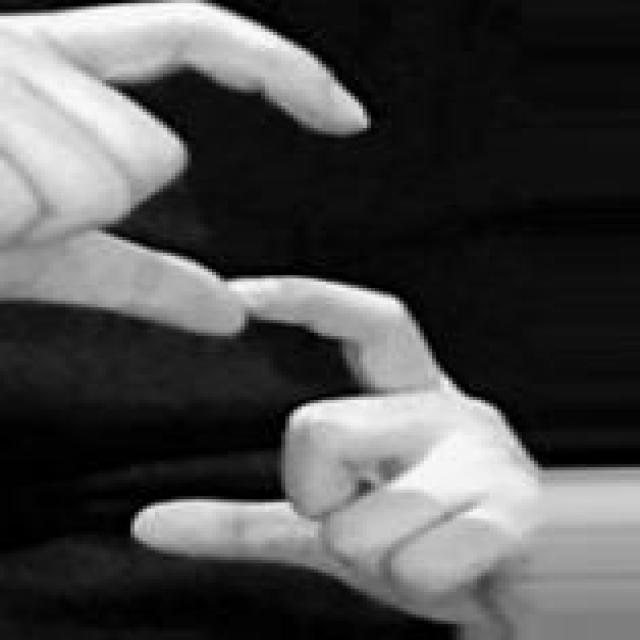S: (0, 1, 544, 640)
